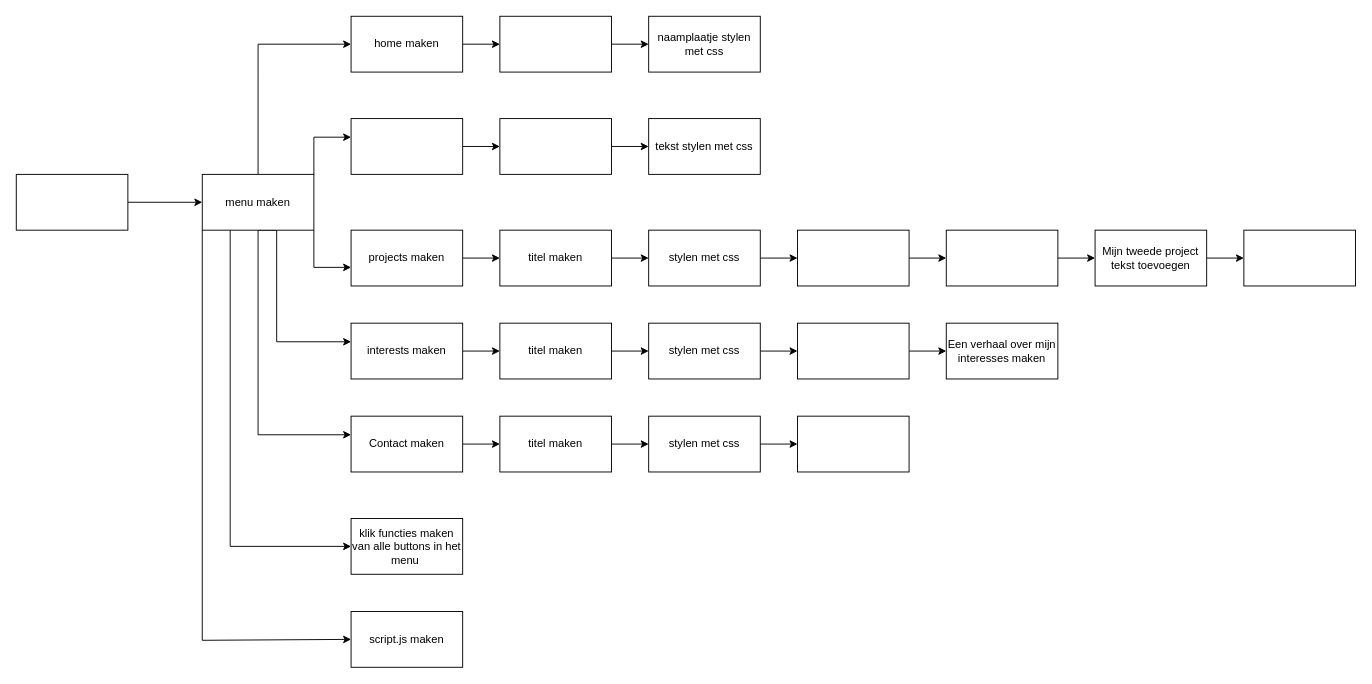
This 1372x684 diagram has some shape labels left out. The shapes that lost their labels are listed below. From the top down, each one's centre as x and y in pixels, then its label:
point (555, 43): naamplaatje maken
point (406, 146): About me maken
point (555, 146): tekst maken
point (71, 201): Website maken
point (853, 257): mijn eerste project tekst toevoegen
point (1001, 257): Een url van mijn eerste opdracht toevoegen
point (1299, 257): Een url van mijn tweede opdracht toevoegen
point (853, 350): Een verhaal over mijn hobbys maken
point (853, 443): Een regel maken over hoe je in contact kan komen met mij
